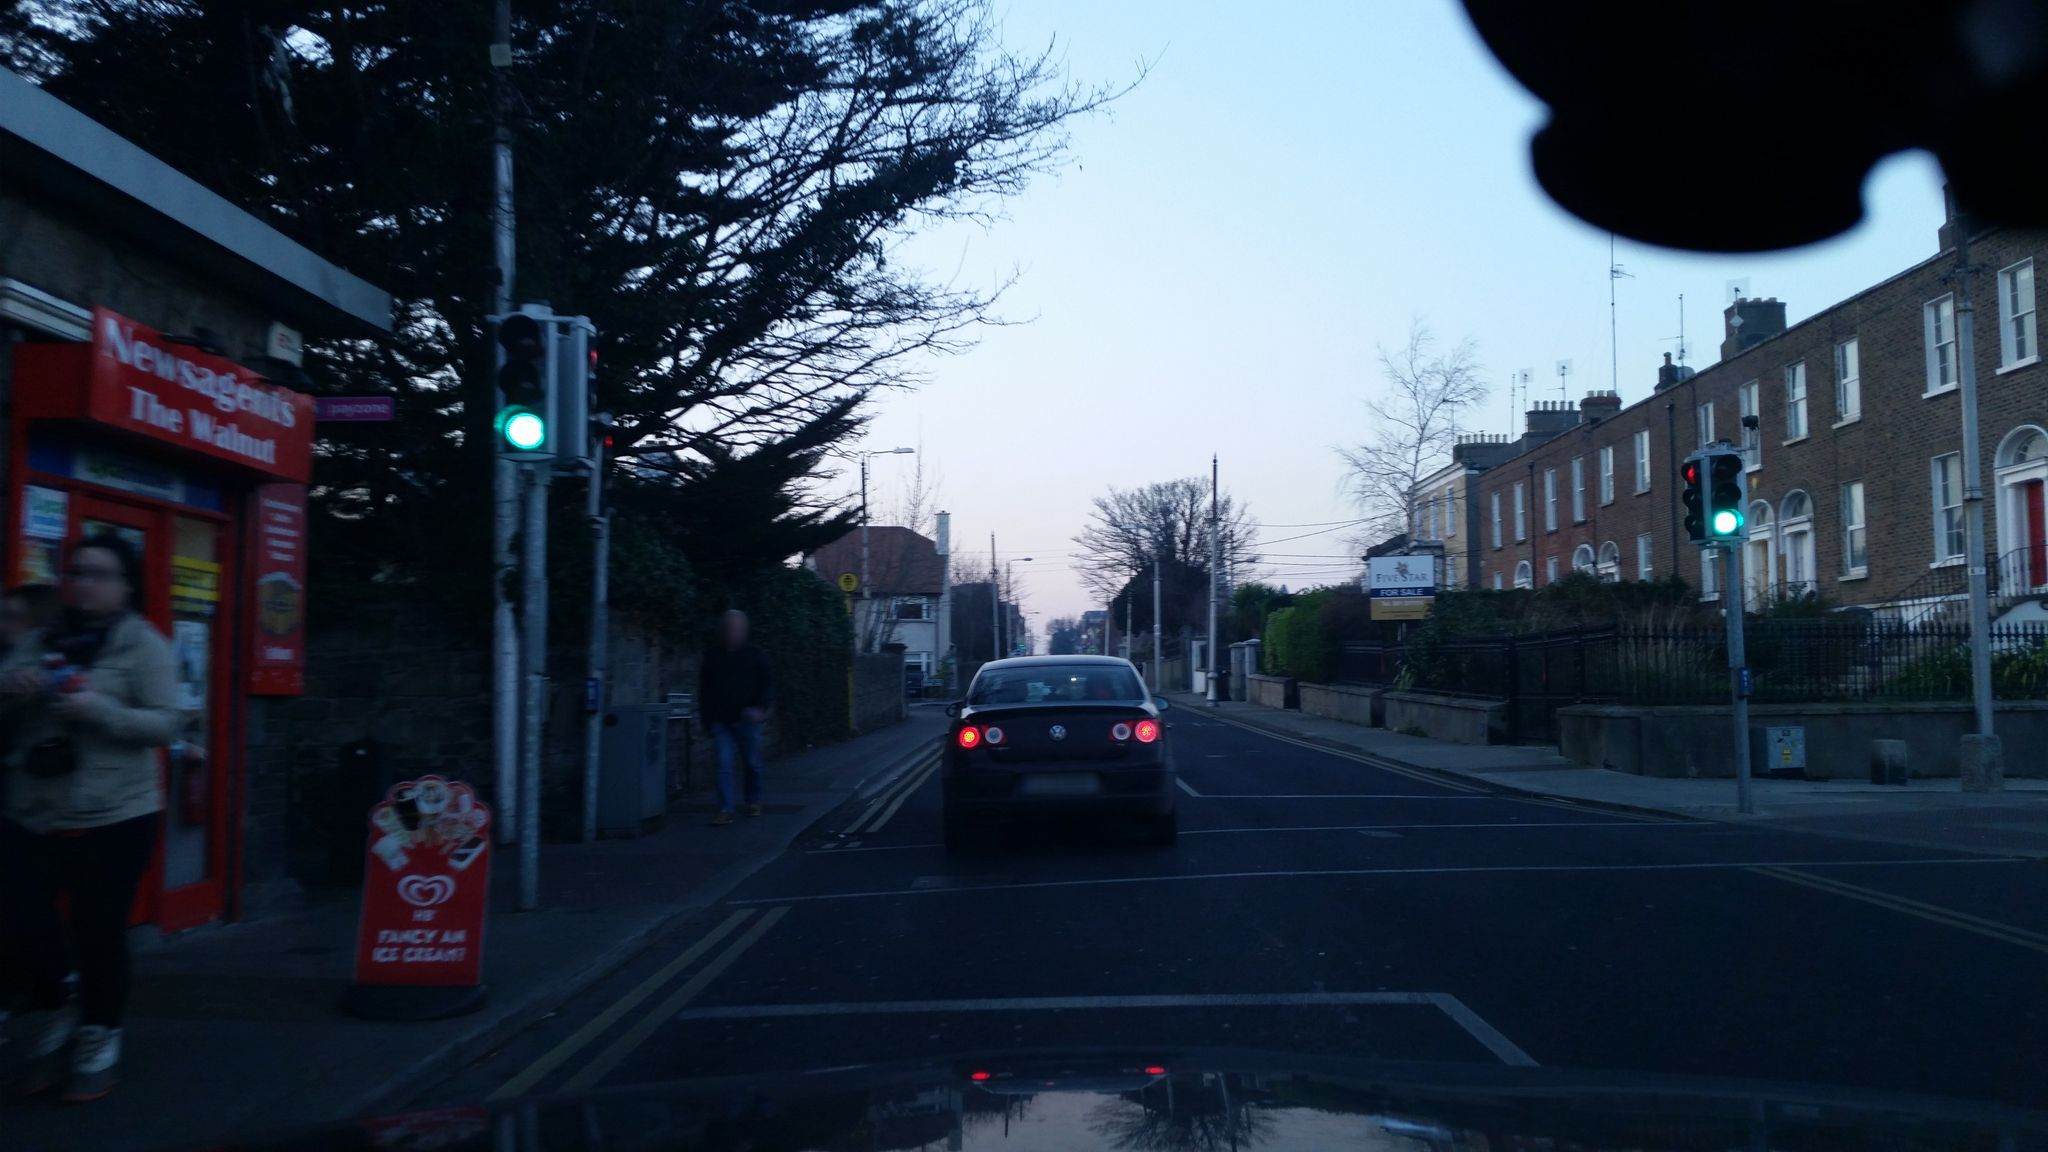property sign: (1355, 544, 1459, 625)
